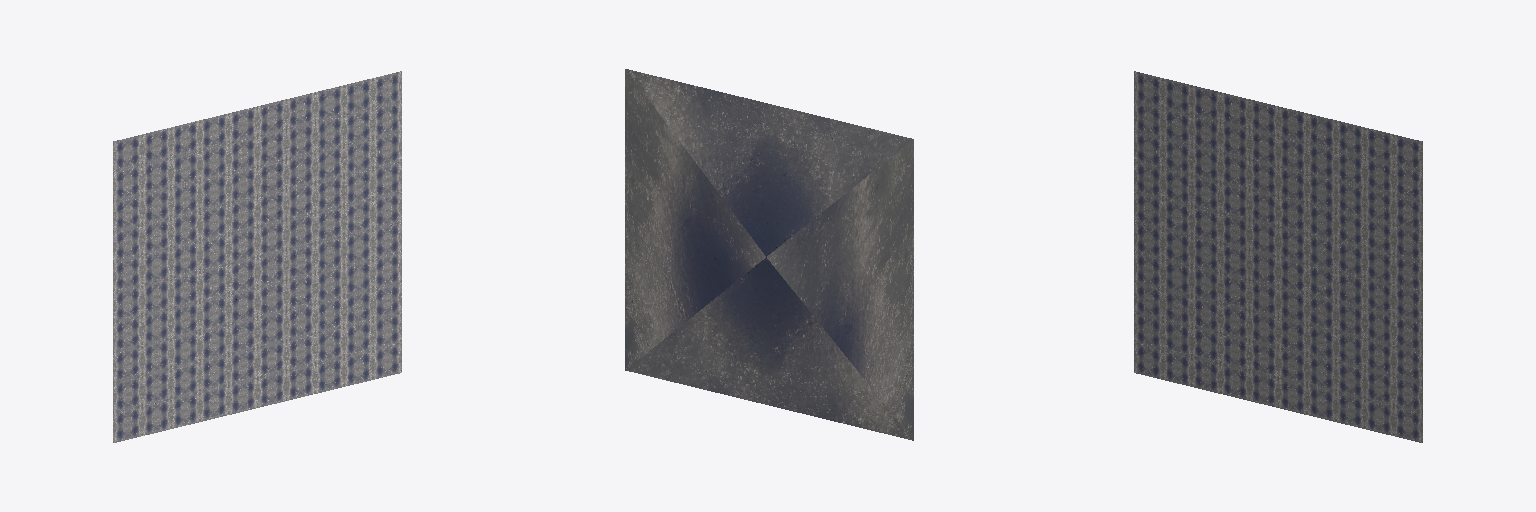
The picture shows the model from 3 angles: view 1: azimuth 30°, elevation 25°; view 2: azimuth 150°, elevation 25°; view 3: azimuth 330°, elevation 25°; orthographic projection.
Parts seen in each view (by area): view 1: Ground5.001, Ground.002, Ground.003, Ground2.001, Ground2.003, Ground5.003, Ground11.001, Ground11.003, Ground6, Ground12, Ground14, Ground2.002 (+28 smaller); view 2: Bottom; view 3: Ground10, Ground9, Ground15, Ground16, Ground9.002, Ground10.002, Ground15.001, Ground16.001, Ground2, Ground4, Ground7, Ground12 (+28 smaller).
Boxes of the visible parts, x1,y1,x2,y2 form: Ground5.001: [149, 388, 185, 434]; Ground.002: [149, 124, 185, 169]; Ground.003: [149, 162, 185, 207]; Ground2.001: [149, 275, 185, 320]; Ground2.003: [149, 313, 185, 358]; Ground5.003: [149, 350, 185, 396]; Ground11.001: [149, 237, 185, 283]; Ground11.003: [149, 199, 185, 245]; Ground6: [186, 304, 221, 349]; Ground12: [186, 153, 221, 198]; Ground14: [258, 211, 293, 256]; Ground2.002: [113, 284, 148, 329]; Bottom: [625, 69, 913, 440]; Ground10: [1350, 388, 1386, 434]; Ground9: [1350, 313, 1386, 358]; Ground15: [1350, 162, 1386, 207]; Ground16: [1350, 237, 1386, 283]; Ground9.002: [1350, 275, 1386, 320]; Ground10.002: [1350, 350, 1386, 396]; Ground15.001: [1350, 124, 1386, 169]; Ground16.001: [1350, 199, 1386, 245]; Ground2: [1134, 260, 1169, 305]; Ground4: [1278, 257, 1313, 303]; Ground7: [1206, 353, 1241, 398]; Ground12: [1206, 126, 1241, 172].
Size of the model in its own units: 1000 by 1000 by 19.73.
1 materials, 1 textured.